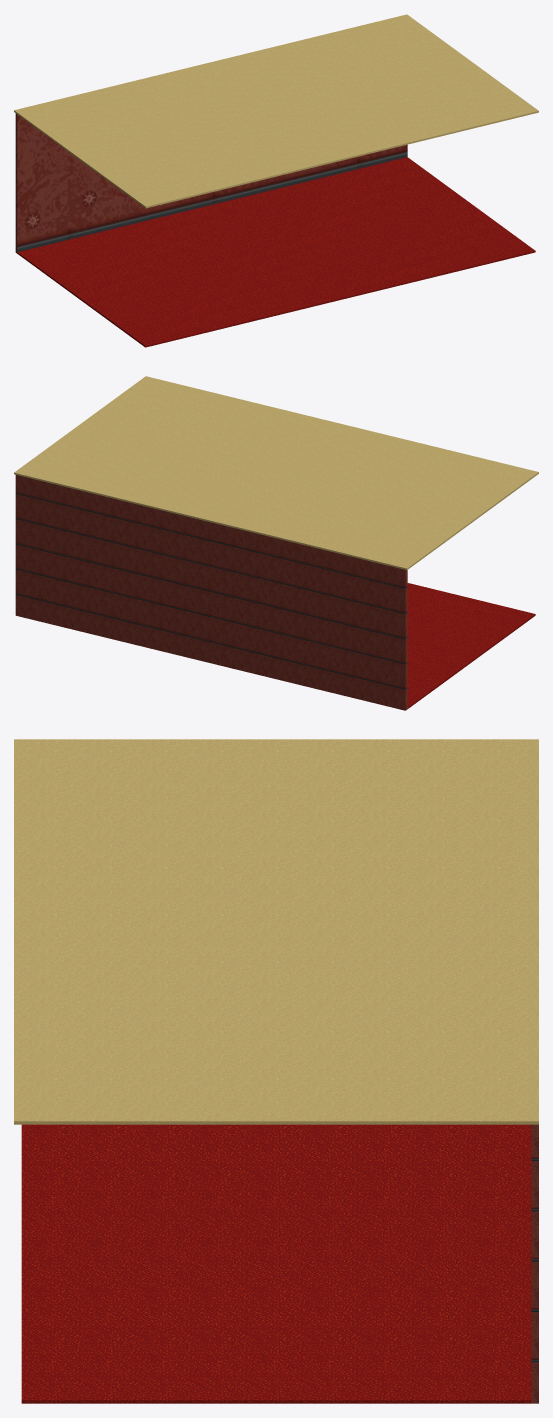
File: Corridor.glb
The picture shows the model from 3 angles, top to bottom: view 1: azimuth 30°, elevation 25°; view 2: azimuth 150°, elevation 25°; view 3: azimuth 270°, elevation 25°; orthographic projection. The views are drawn at different scales.
Visible parts, largest first — view 1: Corridor; view 2: Corridor; view 3: Corridor.
Part boxes in pixels (x1,y1,x2,y2): Corridor: (14, 14, 538, 347); Corridor: (14, 376, 538, 710); Corridor: (14, 739, 538, 1403).
Bounding box in the file's own units: 2086 × 723 × 1212.
Materials: 3 (3 with a texture image).
